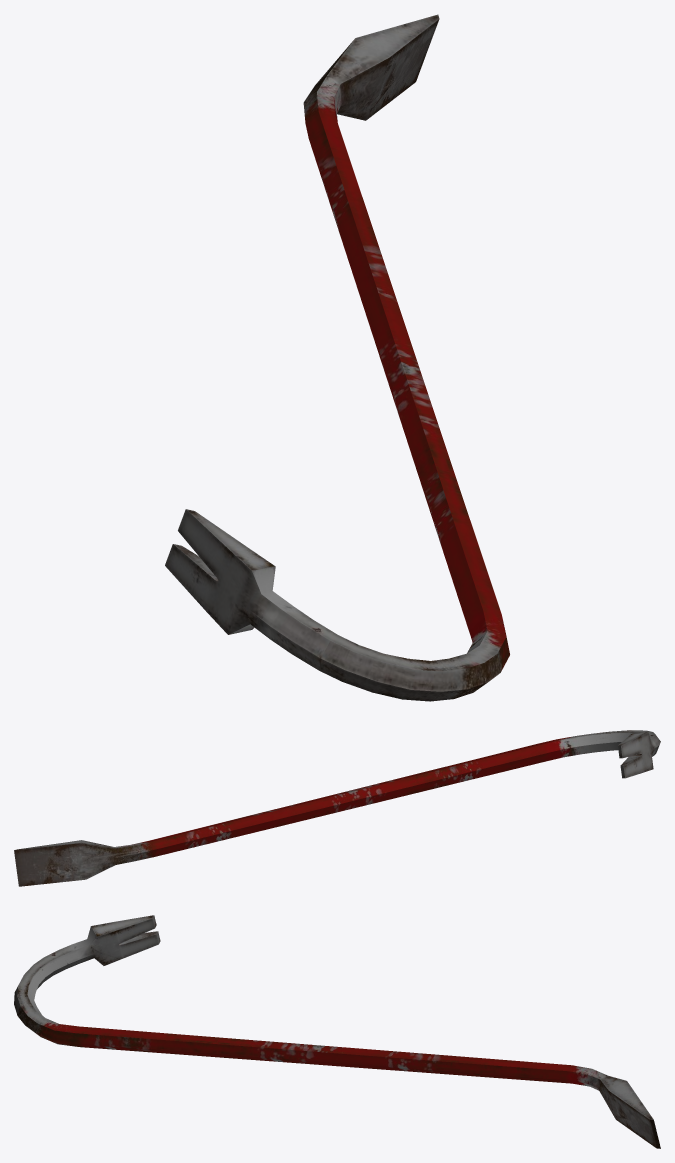
Rendered from Freeman2.glb.
3 views of the same model, one above another, from view 1: azimuth 30°, elevation 25°; view 2: azimuth 150°, elevation 25°; view 3: azimuth 270°, elevation 25° (orthographic). The views are drawn at different scales.
Visible parts, largest first — view 1: Freeman.001; view 2: Freeman.001; view 3: Freeman.001.
Boxes of the visible parts, box(x1,y1,x2,y2) form: Freeman.001: box(165, 14, 509, 701); Freeman.001: box(14, 730, 660, 886); Freeman.001: box(14, 915, 660, 1148).
Bounding box in the file's own units: 1.1 × 0.2015 × 1.59.
1 material, 1 textured.
